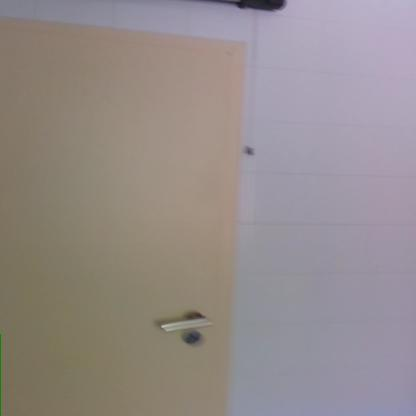closed: (0, 34, 273, 416)
